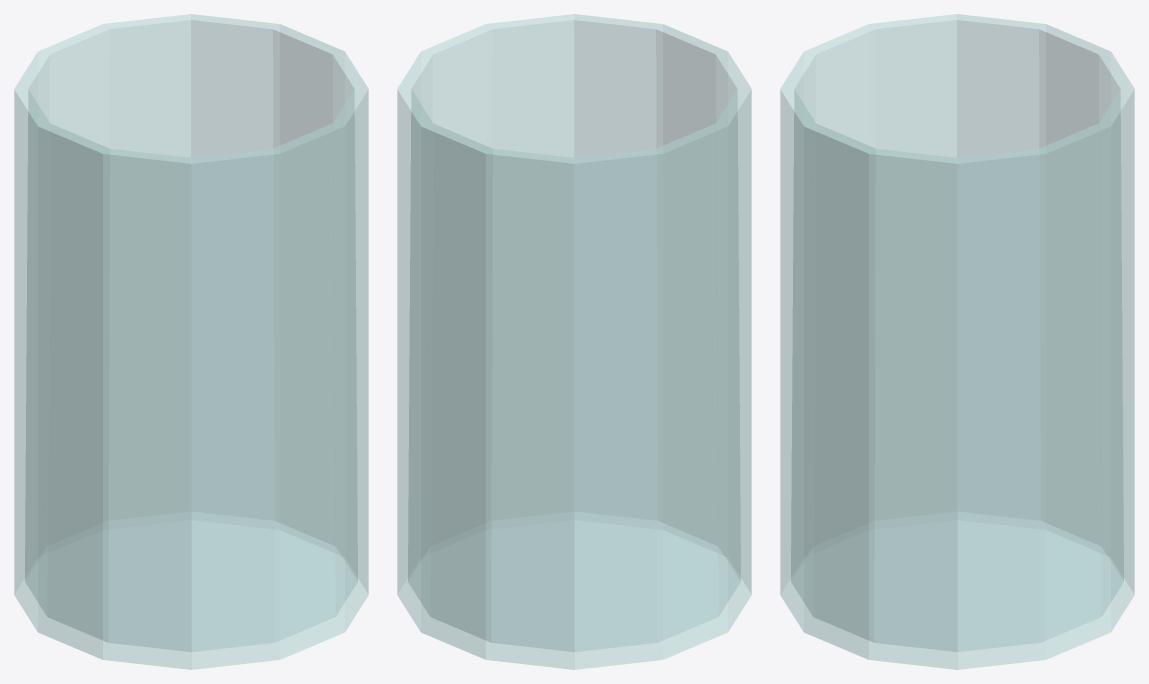
File: SuBardağı.fbx
The picture shows the model from 3 angles, left to right: view 1: azimuth 30°, elevation 25°; view 2: azimuth 150°, elevation 25°; view 3: azimuth 270°, elevation 25°; orthographic projection.
Parts seen in each view (by area): view 1: Cylinder.014; view 2: Cylinder.014; view 3: Cylinder.014.
Part boxes in pixels (bbox=[...]): Cylinder.014: bbox=[14, 14, 368, 669]; Cylinder.014: bbox=[397, 14, 751, 669]; Cylinder.014: bbox=[780, 14, 1134, 669].
Bounding box in the file's own units: 26.59 × 41.87 × 26.59.
